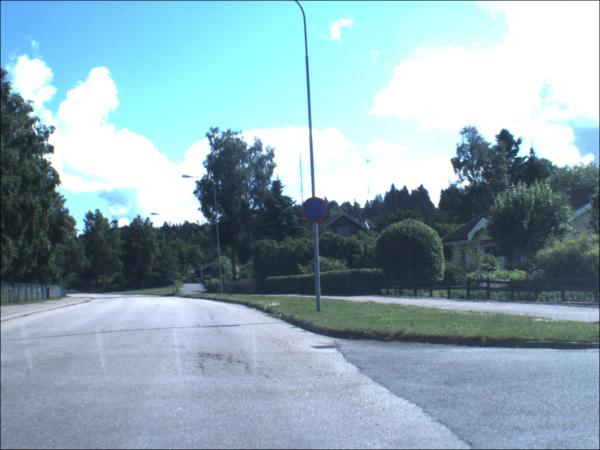NO_PARKING: (303, 196, 331, 229)
